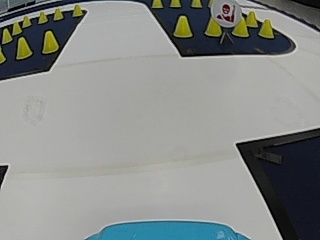evil: (212, 0, 241, 26)
